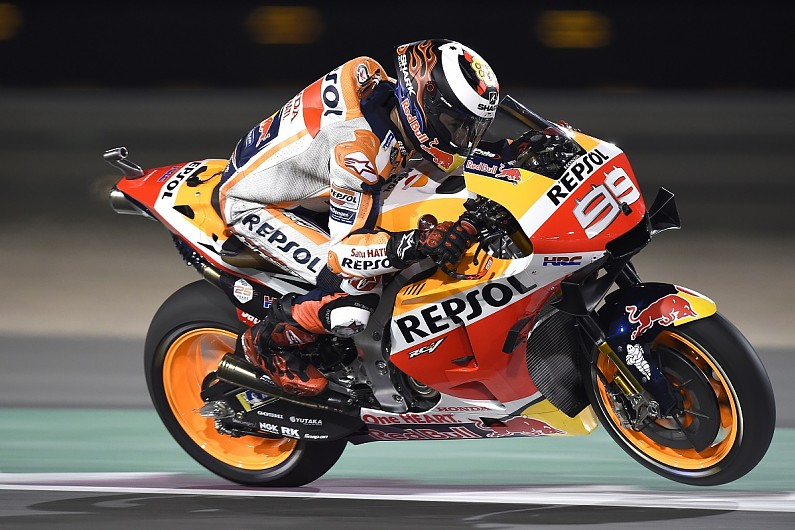helmet: (383, 26, 494, 175)
